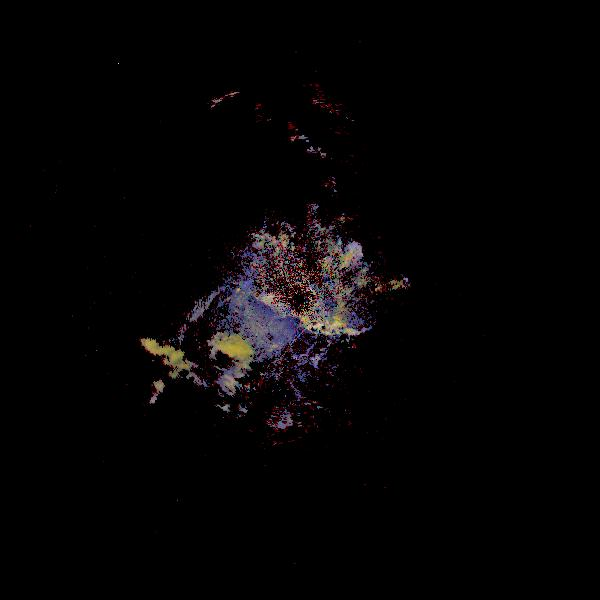roost: (105, 332, 186, 413), (174, 327, 255, 408)
